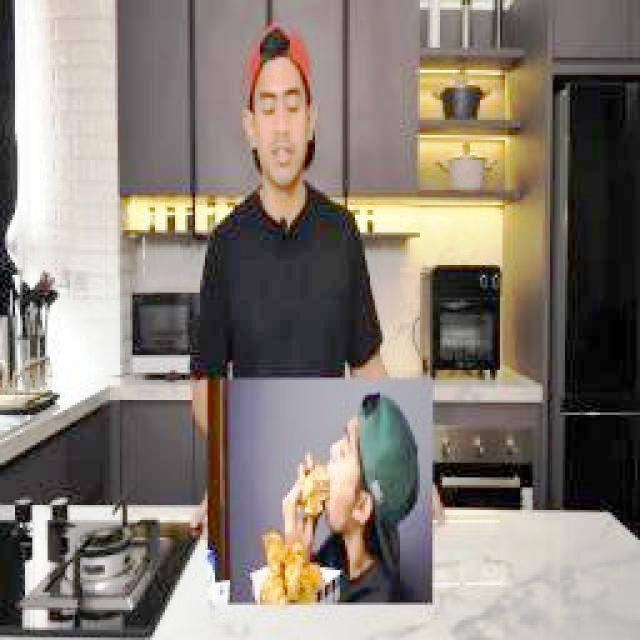fried_chicken: (253, 535, 319, 605)
